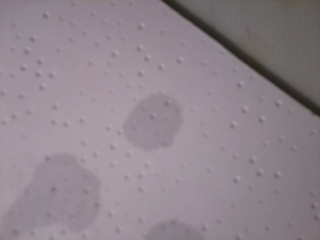Water_detected: (27, 164, 85, 214), (126, 99, 175, 139), (151, 220, 186, 240)
